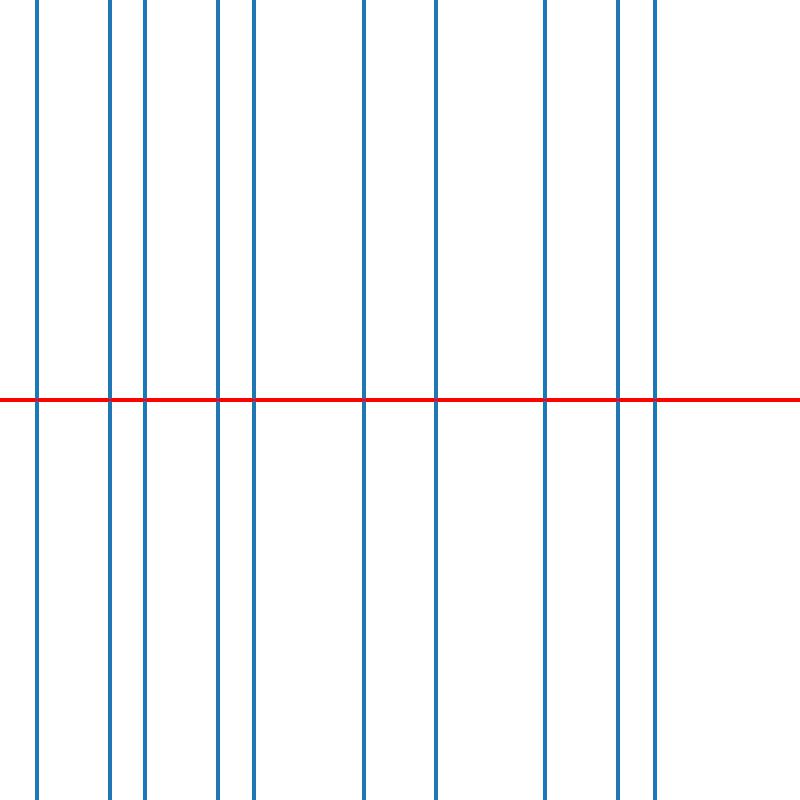root: (250, 396, 258, 404), (32, 396, 40, 404), (541, 396, 549, 404), (432, 396, 440, 404), (650, 396, 658, 404), (141, 396, 149, 404), (105, 396, 112, 404), (360, 396, 367, 404), (214, 396, 221, 404), (614, 396, 621, 404)
